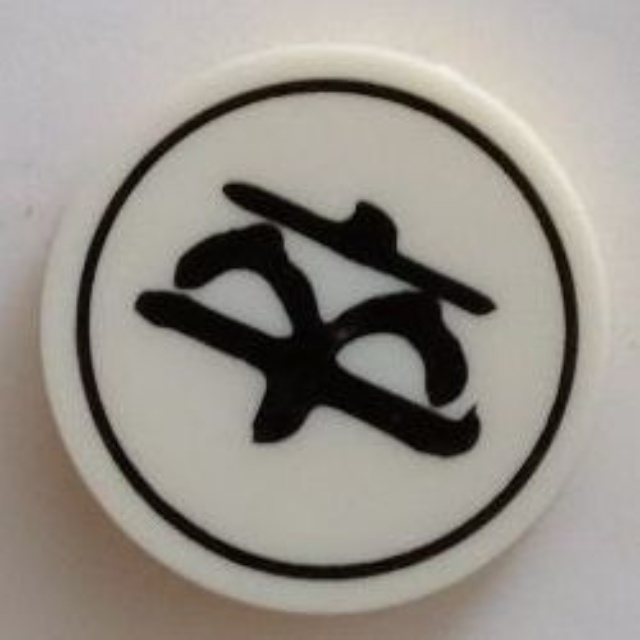black_chot: (29, 41, 631, 619)
